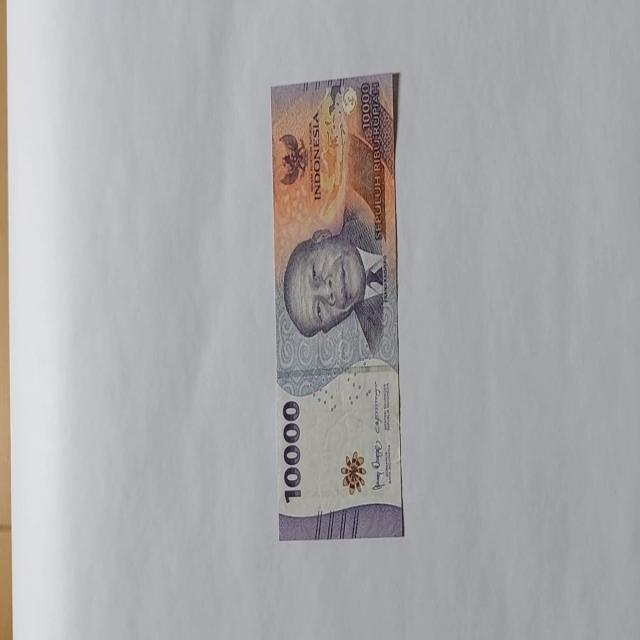sepuluh ribu rupiah: (270, 72, 404, 540), (282, 214, 386, 356)
